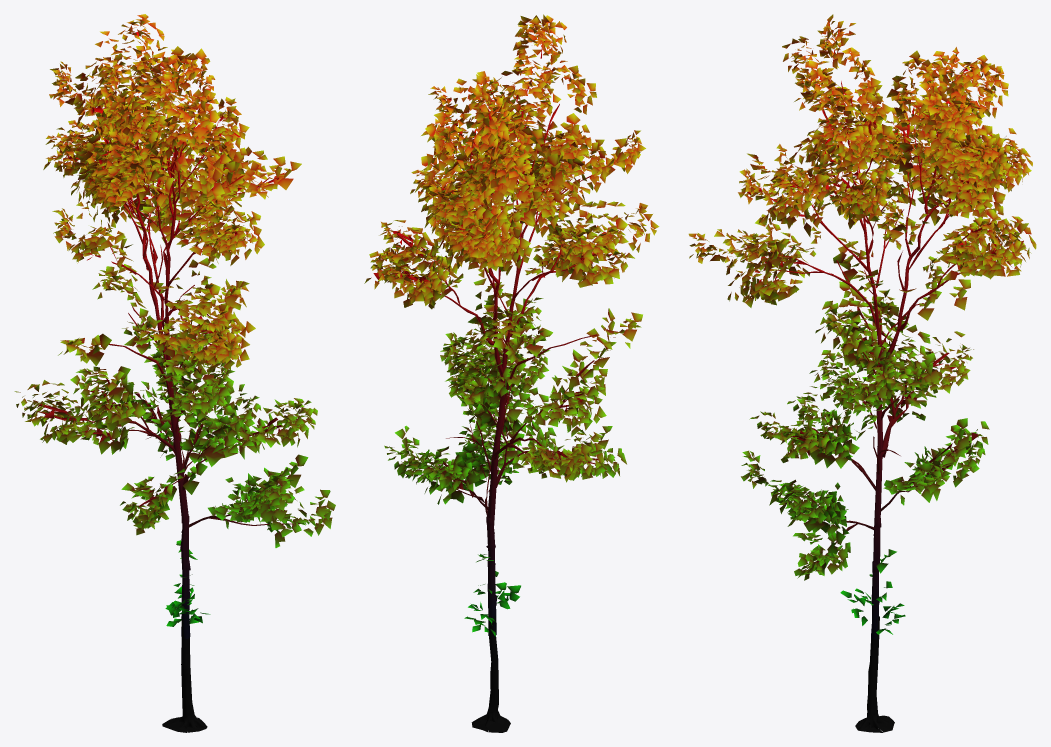
File: SM_EuropeanHornbeam_Forest_05.fbx
3 renders of one model, left to right at view 1: azimuth 30°, elevation 25°; view 2: azimuth 150°, elevation 25°; view 3: azimuth 270°, elevation 25°, orthographic.
Visible parts, largest first — view 1: SM_EuropeanHornbeam_Forest_05; view 2: SM_EuropeanHornbeam_Forest_05; view 3: SM_EuropeanHornbeam_Forest_05.
Part boxes in pixels (x1=…): SM_EuropeanHornbeam_Forest_05: x1=14, y1=14, x2=335, y2=732; SM_EuropeanHornbeam_Forest_05: x1=364, y1=14, x2=659, y2=732; SM_EuropeanHornbeam_Forest_05: x1=688, y1=14, x2=1036, y2=732.
Size of the model in its own units: 481 by 583 by 1288.
